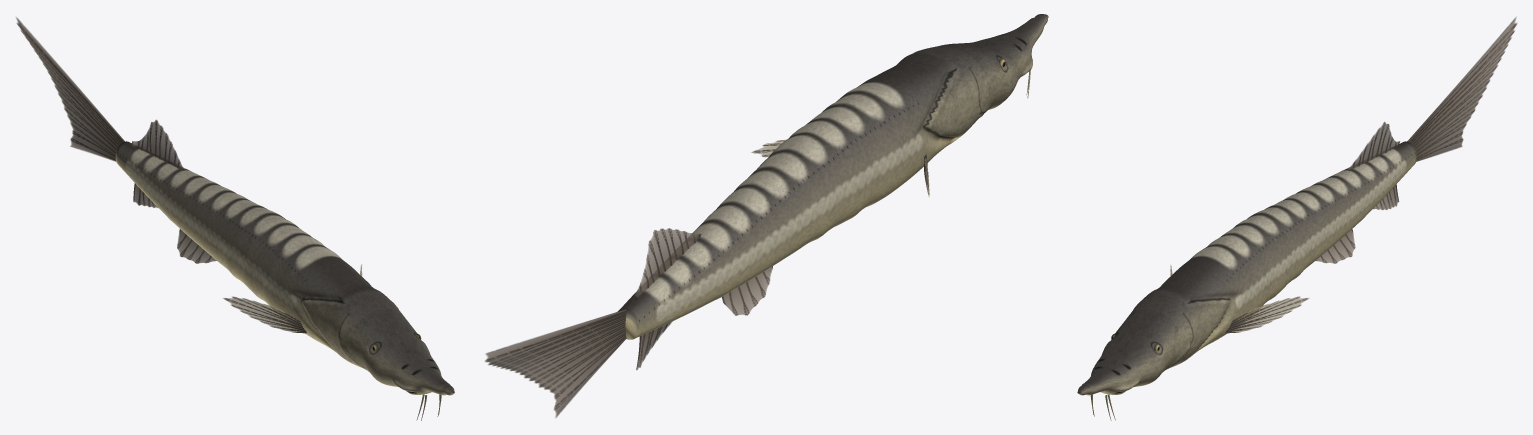
Rendered from sterlet.glb.
3 renders of one model, left to right at view 1: azimuth 30°, elevation 25°; view 2: azimuth 150°, elevation 25°; view 3: azimuth 330°, elevation 25°, orthographic. The views are drawn at different scales.
Parts seen in each view (by area): view 1: Body, FinCaudal, FinPectoral, FinDorsal1, FinPelvic; view 2: Body, FinCaudal, FinDorsal1, FinPelvic, FinAnal; view 3: Body, FinCaudal, FinPectoral, FinDorsal1, FinPelvic.
Boxes of the visible parts, box(x1,y1,x2,y2) form: Body: box(115, 141, 454, 395); FinCaudal: box(16, 17, 124, 161); FinPectoral: box(223, 264, 362, 333); FinDorsal1: box(131, 119, 184, 170); FinPelvic: box(177, 229, 216, 263); Body: box(617, 14, 1048, 339); FinCaudal: box(485, 309, 626, 417); FinDorsal1: box(635, 228, 701, 299); FinPelvic: box(722, 266, 772, 315); FinAnal: box(636, 321, 672, 370); Body: box(1077, 141, 1416, 395); FinCaudal: box(1407, 17, 1517, 161); FinPectoral: box(1170, 264, 1309, 333); FinDorsal1: box(1348, 122, 1400, 171); FinPelvic: box(1316, 229, 1355, 263).
Size of the model in its own units: 0.1847 by 0.1291 by 1.
9 materials, 8 textured.
